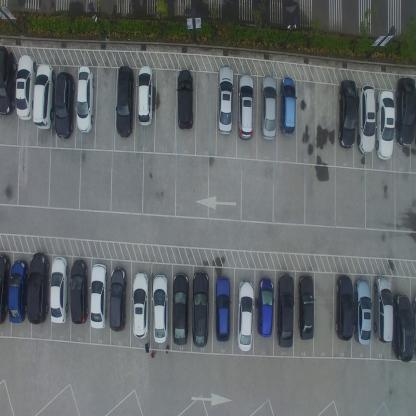car: (26, 250, 50, 325), (392, 292, 414, 363), (32, 63, 55, 130), (15, 53, 37, 121), (115, 64, 135, 138), (54, 70, 75, 140), (276, 271, 295, 348), (191, 270, 209, 349), (396, 76, 416, 147), (236, 280, 255, 353), (376, 89, 395, 162), (8, 259, 29, 325), (374, 274, 394, 343), (216, 64, 235, 135), (357, 83, 376, 154), (76, 66, 95, 134), (338, 77, 356, 148), (132, 270, 150, 340), (89, 263, 108, 329), (336, 273, 354, 342), (50, 256, 68, 325), (152, 272, 169, 344), (354, 278, 372, 345), (109, 267, 127, 333), (70, 258, 88, 324), (172, 272, 188, 346), (237, 72, 254, 141), (0, 45, 16, 116), (260, 75, 277, 141), (215, 275, 231, 343), (298, 274, 314, 342), (279, 75, 296, 138), (176, 69, 193, 131), (137, 64, 154, 126), (257, 277, 273, 337), (0, 253, 12, 326)
